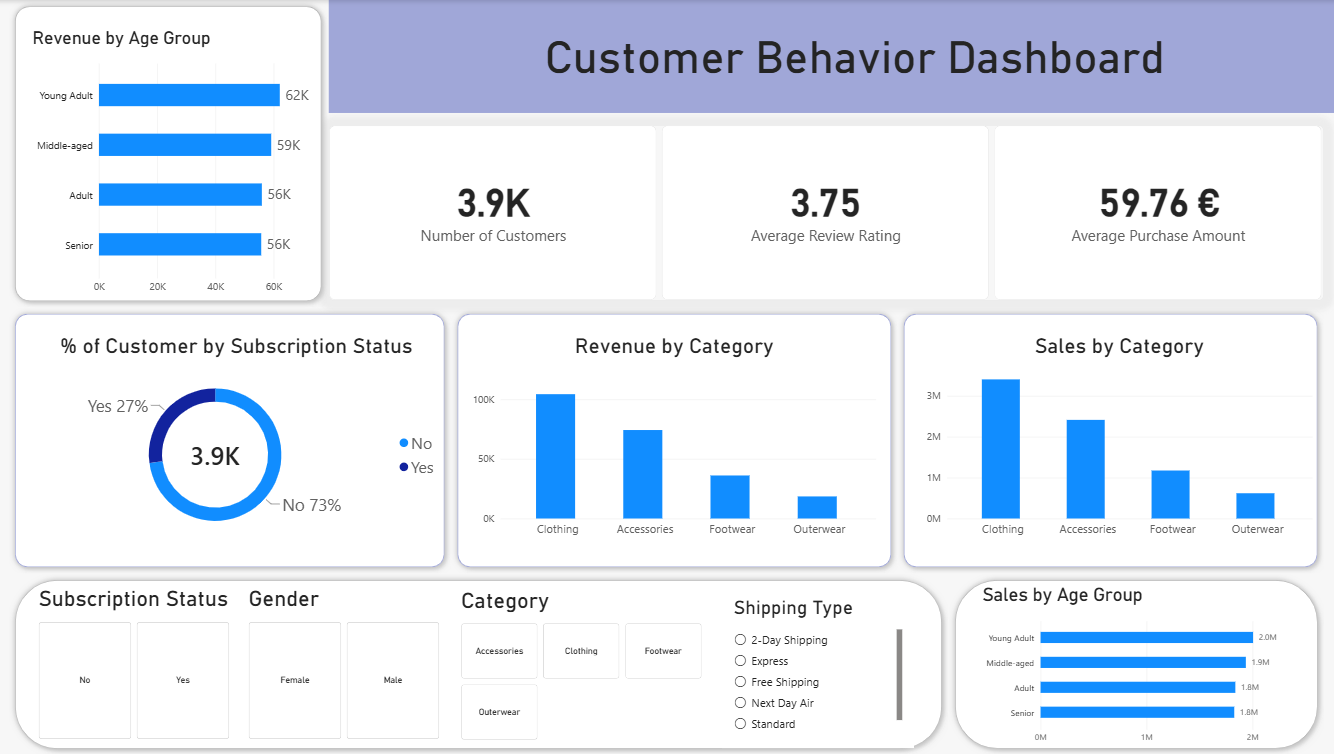

The dashboard page shown, as its layout file describes it:
{"tool":"powerbi","page":{"name":"Page 1","canvas":[1920,1080],"ordinal":0},"visuals":[{"type":"cardVisual","fields":{"Data":["customer.Number of Customers","customer.Average Review Rating","customer.Average Purchase Amount"]},"box":[476,177.7,1421.9,251.3],"z":0},{"type":"shape","box":[20.4,439.2,631.3,380],"z":1000},{"type":"donutChart","title":"% of Customer by Subscription Status","fields":{"Category":["customer.subscription_status"],"Y":["CountNonNull(customer.customer_id)"]},"box":[36.8,461.7,614.9,324.8],"z":2000},{"type":"shape","box":[1289.1,439.2,608.8,380],"z":3000},{"type":"shape","box":[651.7,439.2,637.4,380],"z":4000},{"type":"clusteredColumnChart","title":"Revenue by Category","fields":{"Category":["customer.category"],"Y":["Sum(customer.purchase_amount)"]},"box":[666,461.7,608.8,324.8],"z":5000},{"type":"clusteredColumnChart","title":"Sales by Category","fields":{"Category":["customer.category"],"Y":["Sum(customer.customer_id)"]},"box":[1313.6,461.7,584.3,324.8],"z":6000},{"type":"shape","box":[20.4,819.2,1342.2,259.5],"z":7000},{"type":"advancedSlicerVisual","fields":{"Values":["customer.subscription_status"]},"box":[63.3,837.6,273.8,218.6],"z":8000},{"type":"advancedSlicerVisual","fields":{"Values":["customer.gender"]},"box":[361.6,837.6,273.8,218.6],"z":9000},{"type":"advancedSlicerVisual","fields":{"Values":["customer.category"]},"box":[666,839.7,345.3,218.6],"z":10000},{"type":"shape","box":[20.4,0,455.6,439.2],"z":11000},{"type":"barChart","title":"Revenue by Age Group","fields":{"Category":["customer.age_group"],"Y":["Sum(customer.purchase_amount)"]},"box":[36.8,24.5,439.2,414.7],"z":12000},{"type":"shape","box":[476,0,1444.4,161.4],"z":13000},{"type":"textbox","box":[731.4,24.5,992.9,153.2],"z":14000},{"type":"listSlicer","fields":{"Values":["customer.shipping_type"]},"box":[1039.9,837.6,273.8,230.9],"z":15000},{"type":"shape","box":[1362.7,819.2,536,259],"z":16000},{"type":"barChart","title":"Sales by Age Group","fields":{"Category":["customer.age_group"],"Y":["Sum(customer.customer_id)"]},"box":[1395.4,819.2,502.6,261.5],"z":17000}]}

Visuals, with their boxes in screenshot pixels (x1, y1, x2, y2), scaled from the page's 1920x1080 canvas onto the 1334x754 screenshot:
cardVisual - customer.Number of Customers x customer.Average Review Rating: [x1=331, y1=124, x2=1319, y2=300]
shape: [x1=14, y1=307, x2=453, y2=572]
"% of Customer by Subscription Status" donutChart: [x1=26, y1=322, x2=453, y2=549]
shape: [x1=896, y1=307, x2=1319, y2=572]
shape: [x1=453, y1=307, x2=896, y2=572]
"Revenue by Category" clusteredColumnChart: [x1=463, y1=322, x2=886, y2=549]
"Sales by Category" clusteredColumnChart: [x1=913, y1=322, x2=1319, y2=549]
shape: [x1=14, y1=572, x2=947, y2=753]
advancedSlicerVisual - customer.subscription_status: [x1=44, y1=585, x2=234, y2=737]
advancedSlicerVisual - customer.gender: [x1=251, y1=585, x2=441, y2=737]
advancedSlicerVisual - customer.category: [x1=463, y1=586, x2=703, y2=739]
shape: [x1=14, y1=0, x2=331, y2=307]
"Revenue by Age Group" barChart: [x1=26, y1=17, x2=331, y2=307]
shape: [x1=331, y1=0, x2=1333, y2=113]
textbox: [x1=508, y1=17, x2=1198, y2=124]
listSlicer - customer.shipping_type: [x1=723, y1=585, x2=913, y2=746]
shape: [x1=947, y1=572, x2=1319, y2=753]
"Sales by Age Group" barChart: [x1=970, y1=572, x2=1319, y2=753]
